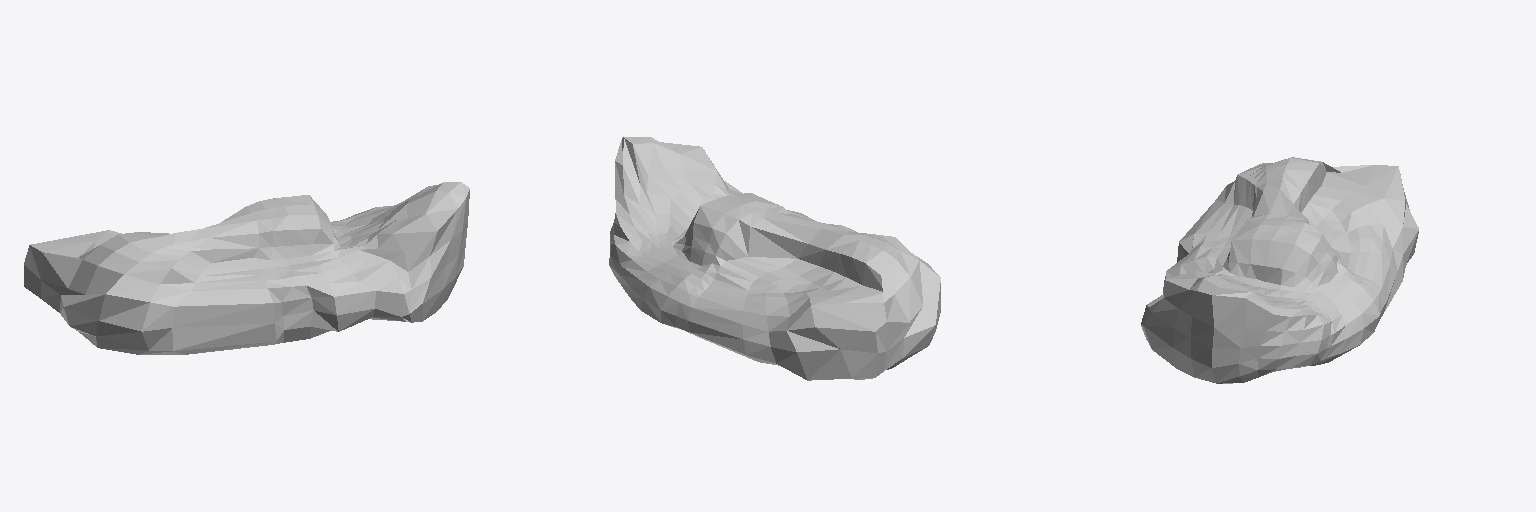
File: 1_RockCrystal.obj
3 renders of one model, left to right at view 1: azimuth 30°, elevation 25°; view 2: azimuth 150°, elevation 25°; view 3: azimuth 270°, elevation 25°, orthographic.
Parts seen in each view (by area): view 1: CrystalRockOne_low:RockCrystal_lowCrystalRockVersionOne; view 2: CrystalRockOne_low:RockCrystal_lowCrystalRockVersionOne; view 3: CrystalRockOne_low:RockCrystal_lowCrystalRockVersionOne.
Boxes of the visible parts, x1,y1,x2,y2 form: CrystalRockOne_low:RockCrystal_lowCrystalRockVersionOne: [24, 182, 469, 354]; CrystalRockOne_low:RockCrystal_lowCrystalRockVersionOne: [609, 137, 940, 380]; CrystalRockOne_low:RockCrystal_lowCrystalRockVersionOne: [1141, 157, 1418, 383].
Bounding box in the file's own units: 32.69 × 9.34 × 21.92.